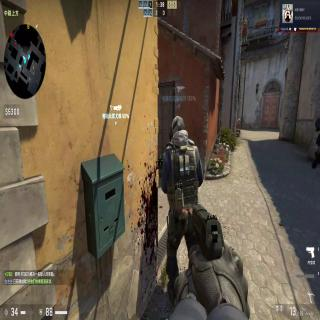CT-Head: (170, 115, 186, 141)
